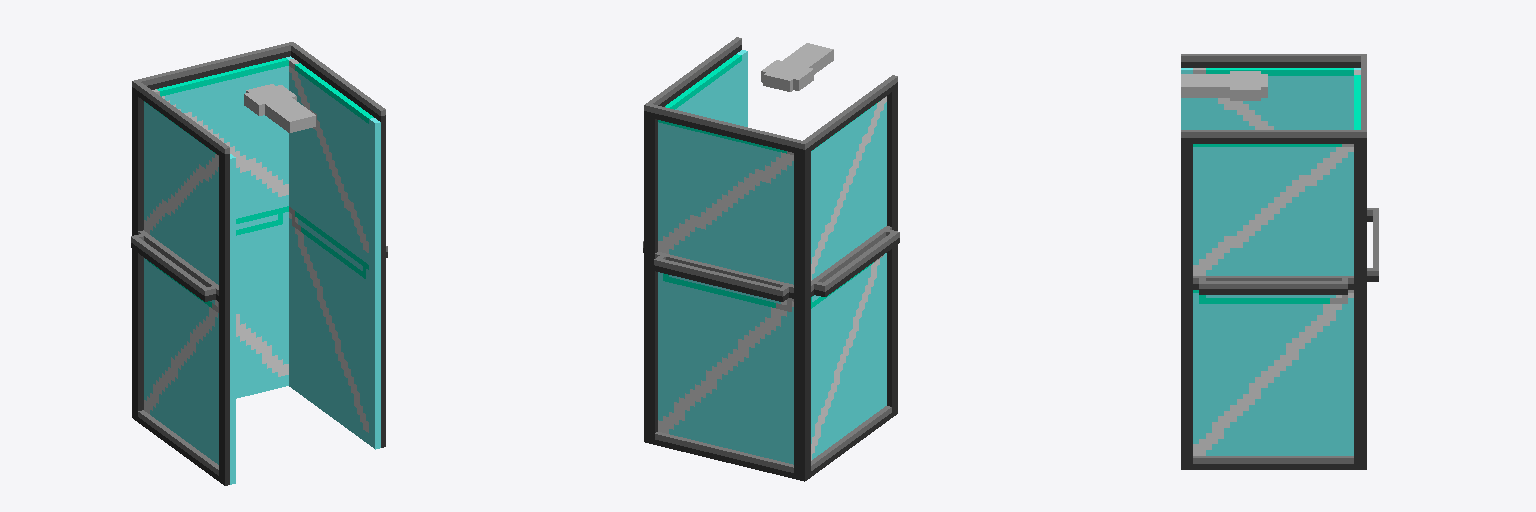
The picture shows the model from 3 angles: view 1: azimuth 30°, elevation 25°; view 2: azimuth 150°, elevation 25°; view 3: azimuth 270°, elevation 25°; orthographic projection.
Parts seen in each view (by area): view 1: chuveiro; view 2: chuveiro; view 3: chuveiro.
Boxes of the visible parts, x1,y1,x2,y2 form: chuveiro: [131, 42, 387, 485]; chuveiro: [643, 37, 899, 481]; chuveiro: [1181, 54, 1378, 469].
Bounding box in the file's own units: 34 × 62 × 32.
Materials: 1 (1 with a texture image).